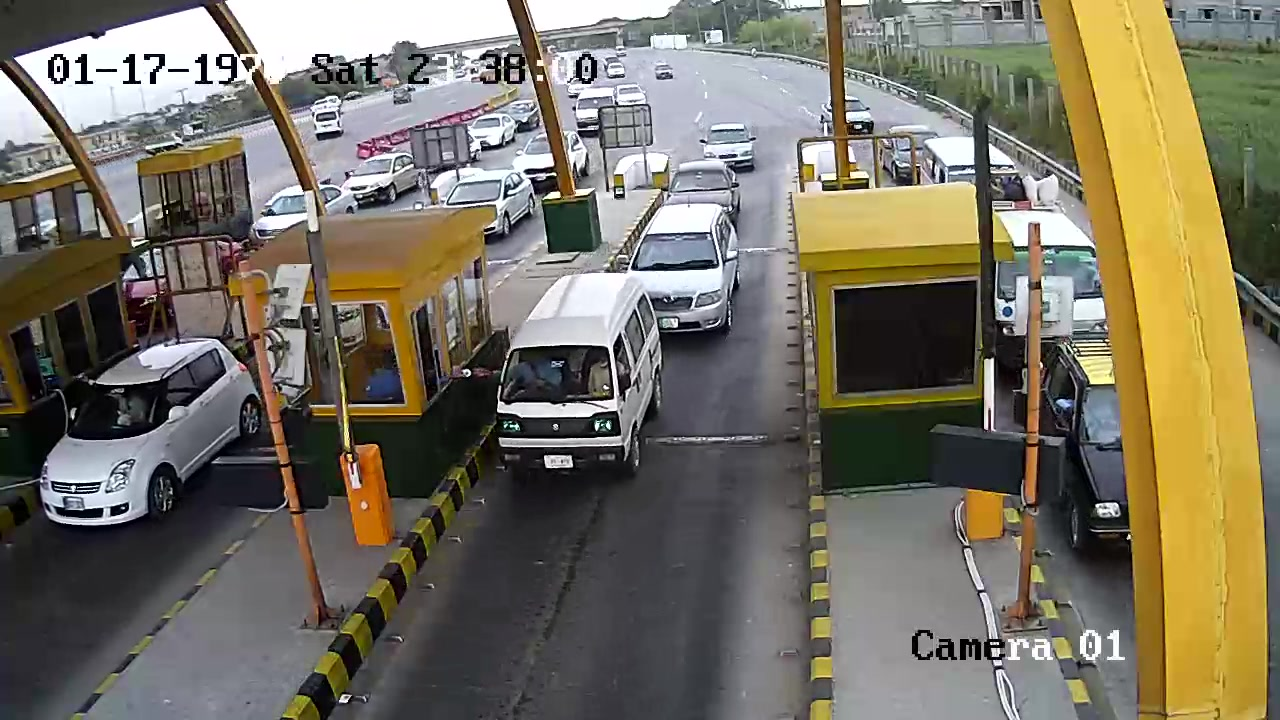F1: (493, 263, 665, 490)
